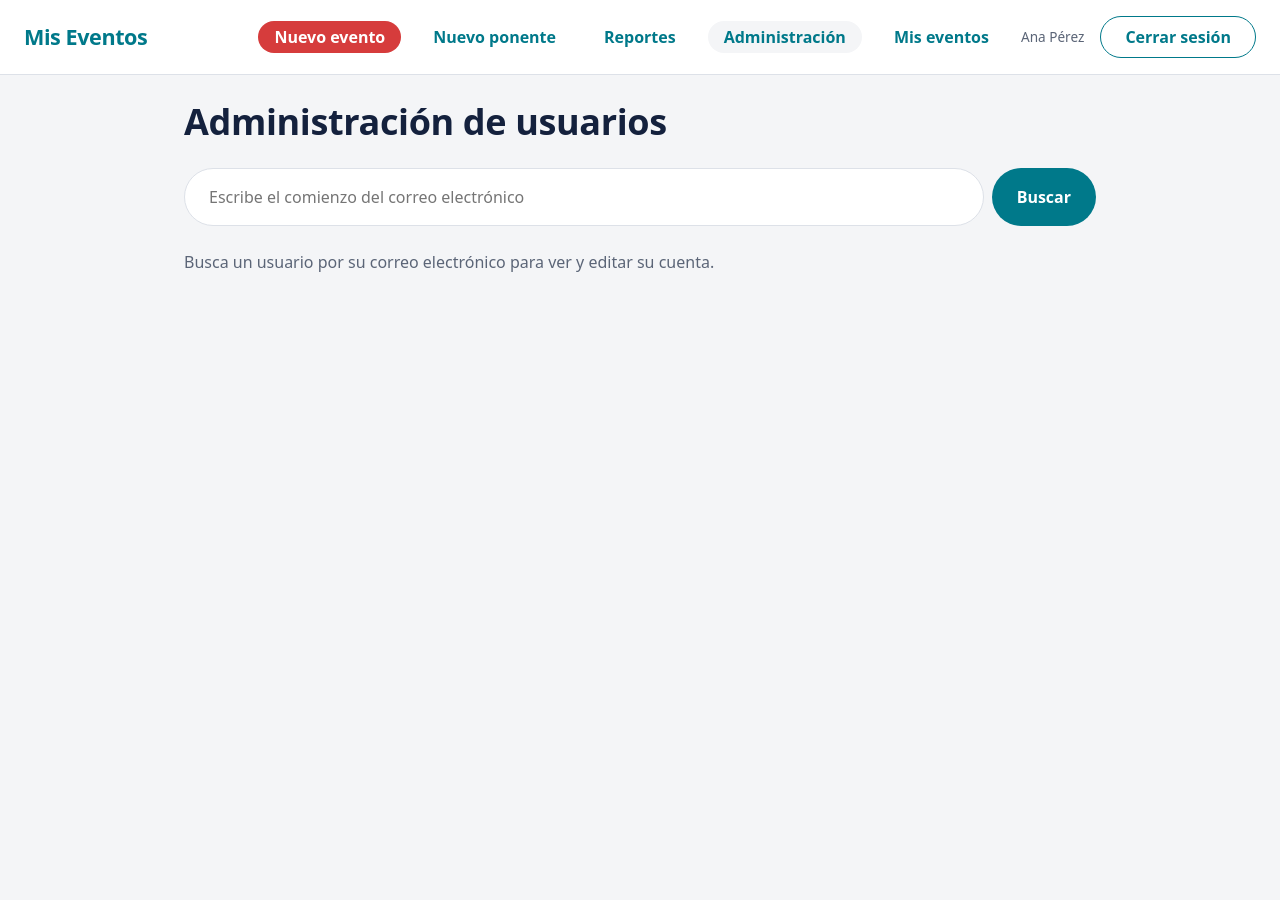
Test case: AdminUsersPage search › searches by the trimmed email with the first page
Type "  be  " into the search field named "Correo electrónico del usuario" at (584, 197), box [184,168,984,226]
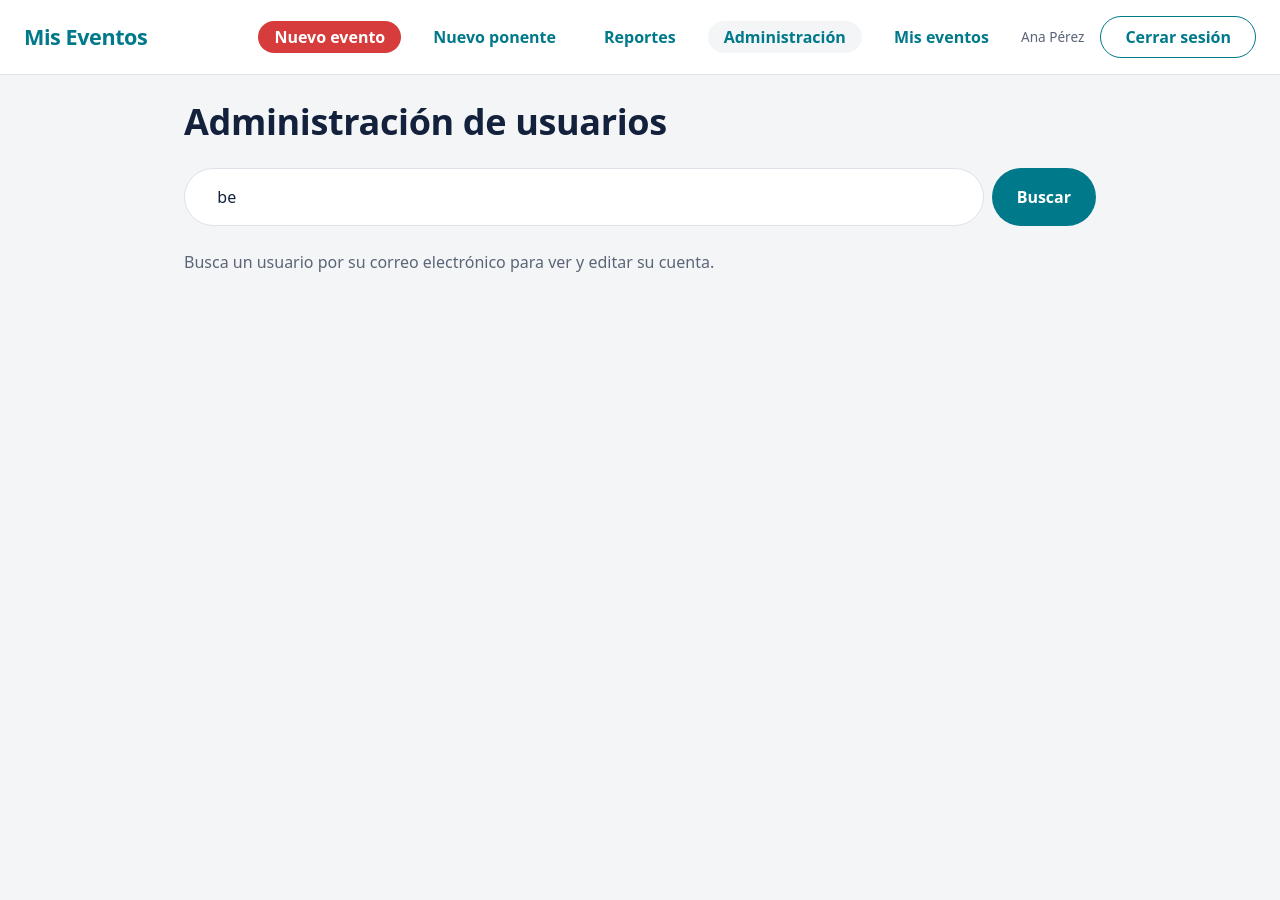
Click the button "Buscar" at (1044, 197), box [992,168,1096,226]
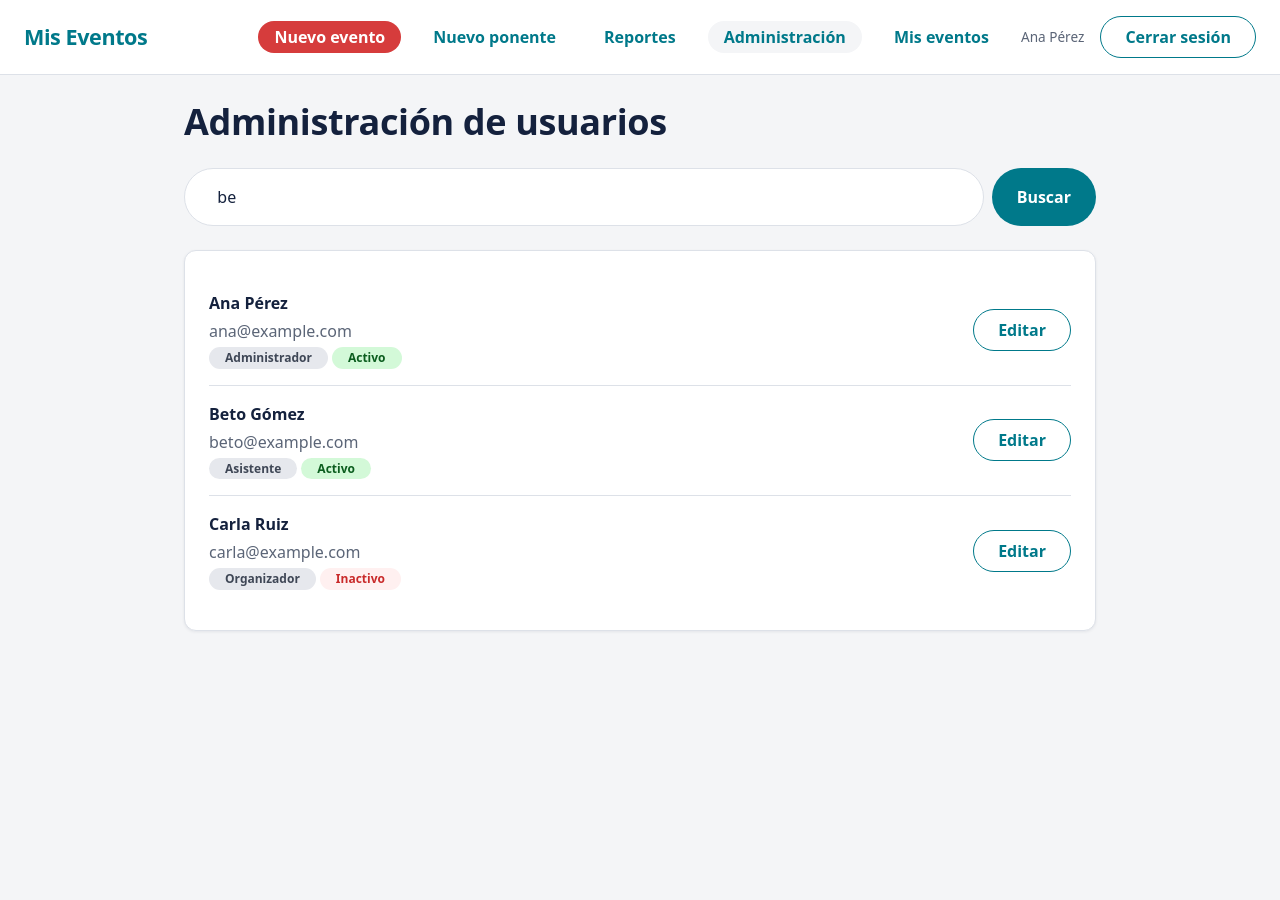
Check: the text "Beto Gómez" is shown, box [209,403,304,425]
